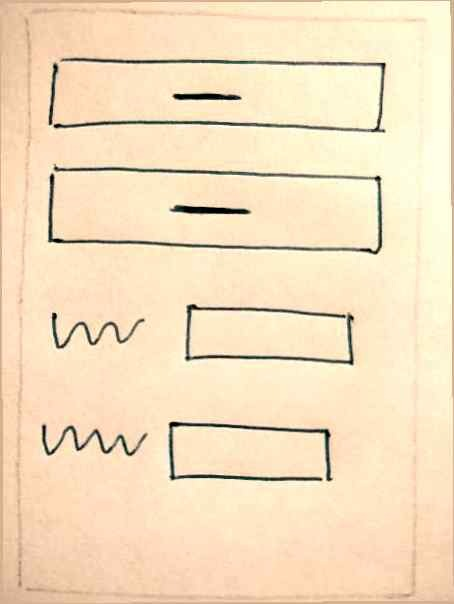button: (42, 156, 394, 259), (44, 47, 395, 144)
text: (42, 294, 150, 371), (38, 409, 150, 470)
text_input: (173, 289, 364, 383), (162, 404, 353, 498)
